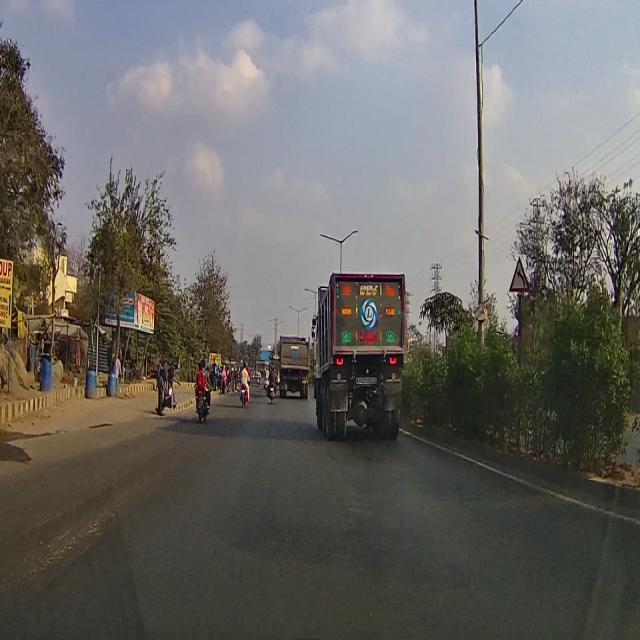left-hand-curve: (509, 258, 529, 300)
